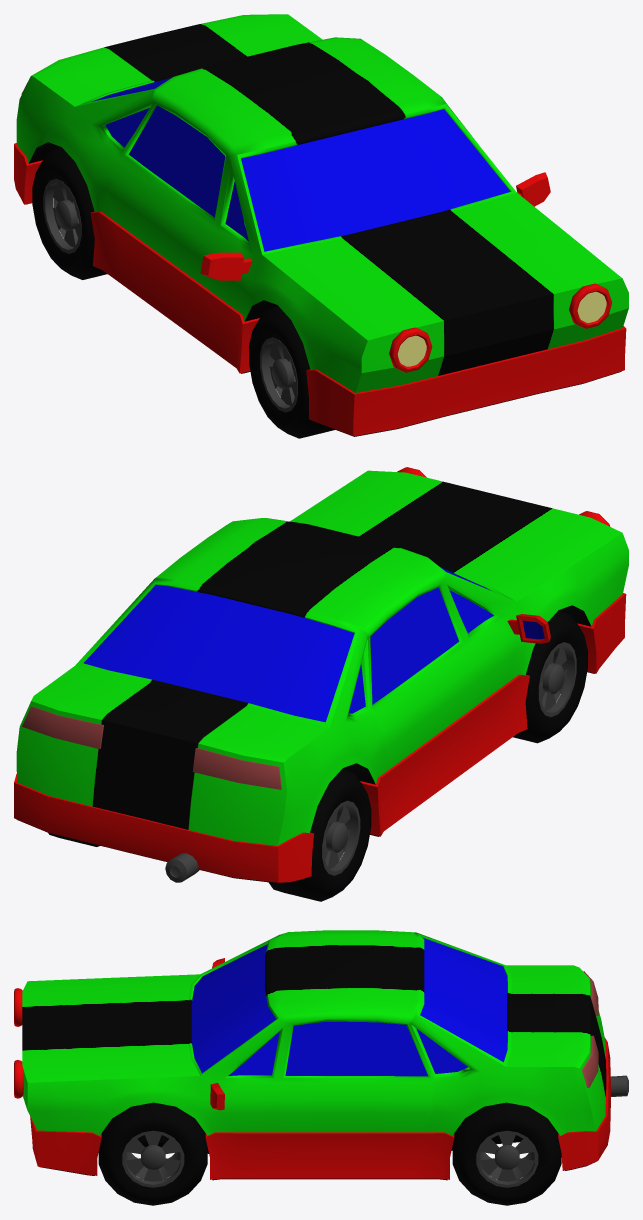
File: Muscle Evolution1 Red LineBlackGreen Blue DarkGrey.gltf
The picture shows the model from 3 angles, top to bottom: view 1: azimuth 30°, elevation 25°; view 2: azimuth 150°, elevation 25°; view 3: azimuth 270°, elevation 25°; orthographic projection. The views are drawn at different scales.
Visible parts, largest first — view 1: evo1_body4_f1_dupl, evo1_sill0_f1_dupl, evo1_frontGlass_f1_dupl, evo1_glasseBigR_f1_dupl, evo1_tire_rf_f1_dupl, evo1_tire_rf1_f1_dupl, evo1_rim_A_rb_f1_dupl, evo1_rim_A_rf_f1_dupl, evo1_mirorR3_f1_dupl, evo1_blockLightR_f1_dupl, evo1_blockLightL_f1_dupl, evo1_mirorL3_f1_dupl (+4 smaller); view 2: evo1_body4_f1_dupl, evo1_sill0_f1_dupl, evo1_BackGlassGlass_f1_dupl, evo1_glasseBigR_f1_dupl, evo1_tire_rf_f1_dupl, evo1_tire_rf1_f1_dupl, evo1_rim_A_rf_f1_dupl, evo1_rim_A_rb_f1_dupl, evo1_redlightR2_f1_dupl, evo1_redlightL2_f1_dupl, evo1_glassfR_f1_dupl, evo1_pipe1_f1_dupl (+1 smaller); view 3: evo1_body4_f1_dupl, evo1_sill0_f1_dupl, evo1_BackGlassGlass_f1_dupl, evo1_glasseBigL_f1_dupl, evo1_frontGlass_f1_dupl, evo1_tire_lb_f1_dupl, evo1_tire_lf_f1_dupl, evo1_rim_A_lf_f1_dupl, evo1_rim_A_lb_f1_dupl, evo1_glassfL_f1_dupl, evo1_glassbL_f1_dupl, evo1_GroundBody_f1_dupl (+1 smaller).
Part boxes in pixels (bbox=[...]): evo1_body4_f1_dupl: bbox=[16, 14, 628, 392]; evo1_sill0_f1_dupl: bbox=[14, 143, 626, 436]; evo1_frontGlass_f1_dupl: bbox=[241, 109, 510, 251]; evo1_glasseBigR_f1_dupl: bbox=[128, 105, 225, 217]; evo1_tire_rf_f1_dupl: bbox=[32, 147, 107, 279]; evo1_tire_rf1_f1_dupl: bbox=[249, 306, 334, 438]; evo1_rim_A_rb_f1_dupl: bbox=[43, 179, 81, 253]; evo1_rim_A_rf_f1_dupl: bbox=[260, 337, 297, 412]; evo1_mirorR3_f1_dupl: bbox=[200, 252, 252, 280]; evo1_blockLightR_f1_dupl: bbox=[389, 327, 432, 372]; evo1_blockLightL_f1_dupl: bbox=[569, 283, 612, 328]; evo1_mirorL3_f1_dupl: bbox=[516, 172, 550, 206]; evo1_body4_f1_dupl: bbox=[16, 470, 628, 845]; evo1_sill0_f1_dupl: bbox=[14, 593, 626, 882]; evo1_BackGlassGlass_f1_dupl: bbox=[83, 584, 354, 722]; evo1_glasseBigR_f1_dupl: bbox=[370, 587, 458, 704]; evo1_tire_rf_f1_dupl: bbox=[268, 769, 371, 901]; evo1_tire_rf1_f1_dupl: bbox=[513, 610, 587, 743]; evo1_rim_A_rf_f1_dupl: bbox=[538, 642, 576, 717]; evo1_rim_A_rb_f1_dupl: bbox=[322, 800, 360, 875]; evo1_redlightR2_f1_dupl: bbox=[192, 748, 281, 789]; evo1_redlightL2_f1_dupl: bbox=[22, 706, 103, 748]; evo1_glassfR_f1_dupl: bbox=[449, 590, 493, 632]; evo1_pipe1_f1_dupl: bbox=[165, 853, 199, 882]; evo1_body4_f1_dupl: bbox=[22, 930, 606, 1152]; evo1_sill0_f1_dupl: bbox=[30, 1037, 610, 1179]; evo1_BackGlassGlass_f1_dupl: bbox=[420, 937, 507, 1061]; evo1_glasseBigL_f1_dupl: bbox=[285, 1021, 427, 1076]; evo1_frontGlass_f1_dupl: bbox=[191, 944, 276, 1073]; evo1_tire_lb_f1_dupl: bbox=[452, 1102, 561, 1205]; evo1_tire_lf_f1_dupl: bbox=[98, 1102, 207, 1205]; evo1_rim_A_lf_f1_dupl: bbox=[122, 1130, 184, 1187]; evo1_rim_A_lb_f1_dupl: bbox=[476, 1130, 538, 1187]; evo1_glassfL_f1_dupl: bbox=[228, 1032, 279, 1075]; evo1_glassbL_f1_dupl: bbox=[416, 1028, 467, 1073]; evo1_GroundBody_f1_dupl: bbox=[40, 1140, 594, 1180].
Size of the model in its own units: 177 by 112 by 331.
7 materials, 1 textured.
